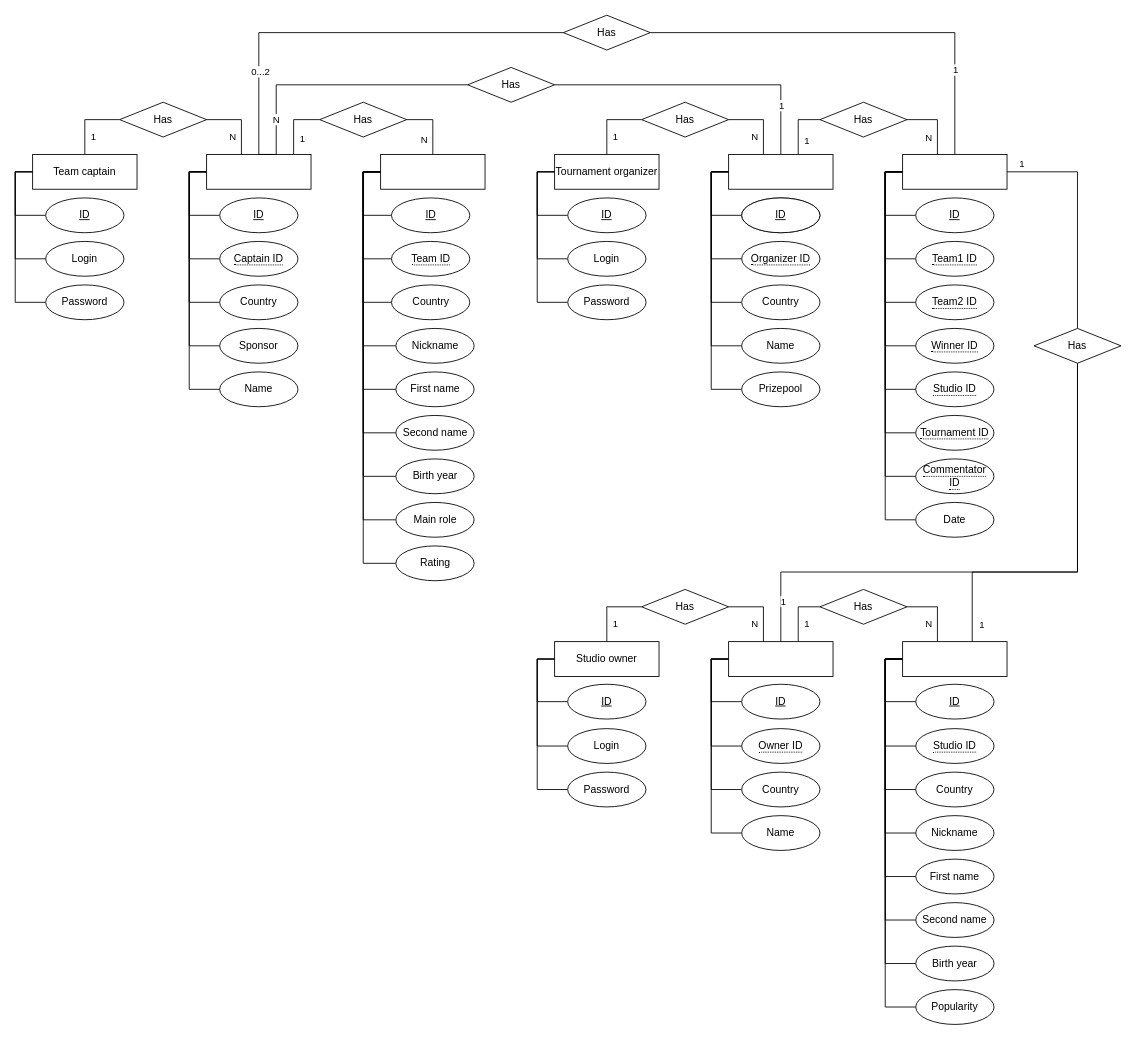
Some shapes in this 1136 by 1040 pixel diagram are drawn without their labels. Each missing label, with the box of its shape:
Commentator: (902, 641, 1007, 676)
Match: (902, 154, 1007, 189)
Player: (380, 154, 485, 189)
Studio: (728, 641, 833, 676)
Team: (206, 154, 311, 189)
Tournament: (728, 154, 833, 189)
